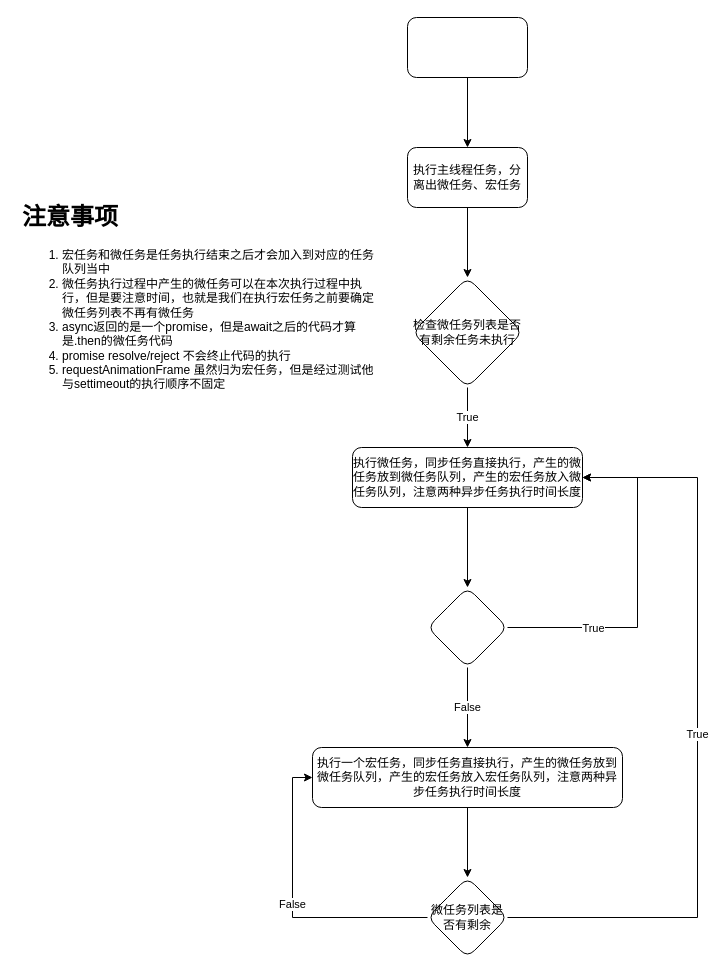
This 725x975 diagram has some shape labels left out. Each missing label, with the centre of its shape:
"开始" belongs at [467,47].
"微任务列表是否还有剩余" belongs at [467,627].
